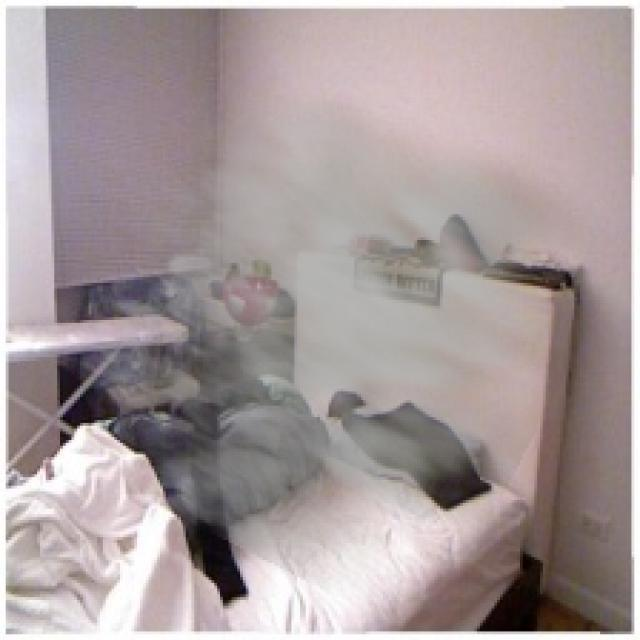Smoke: (74, 74, 632, 600)
